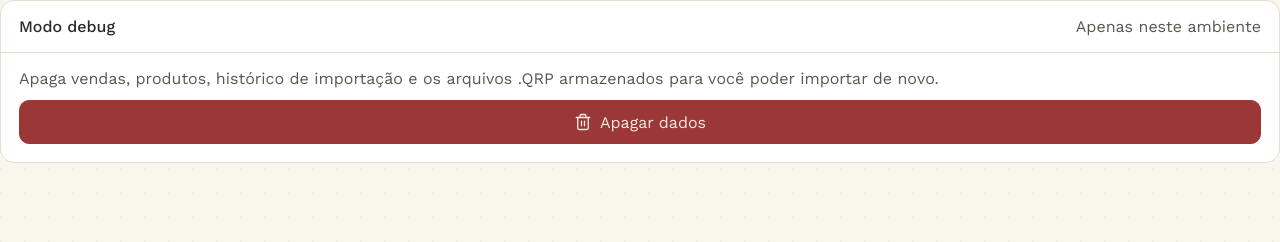
Test: DebugResetPanel › shows fallback when reset rejects a non-Error
Click the button "Apagar dados" at (640, 122), box 19,100 -> 1261,144
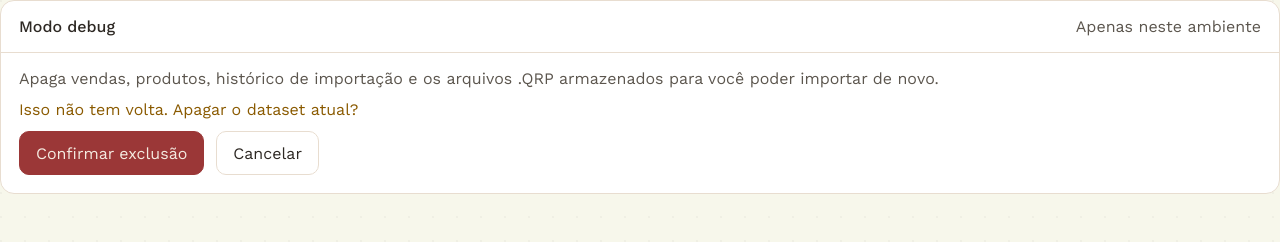
Click the button "Confirmar exclusão" at (112, 153), box 19,131 -> 204,175
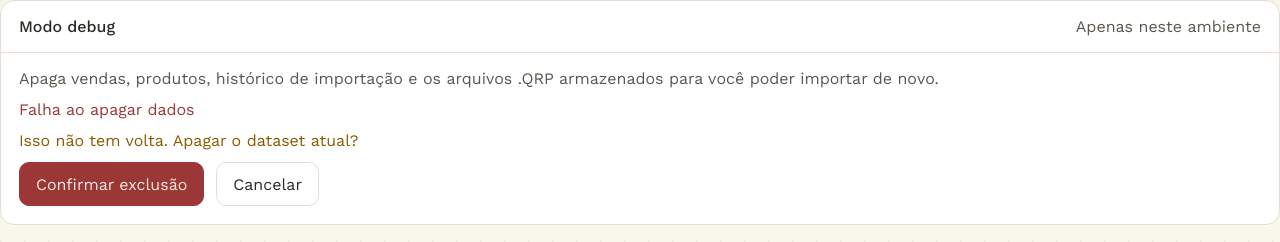
Expected: the text "Falha ao apagar dados" is shown, 19,100 -> 194,119
